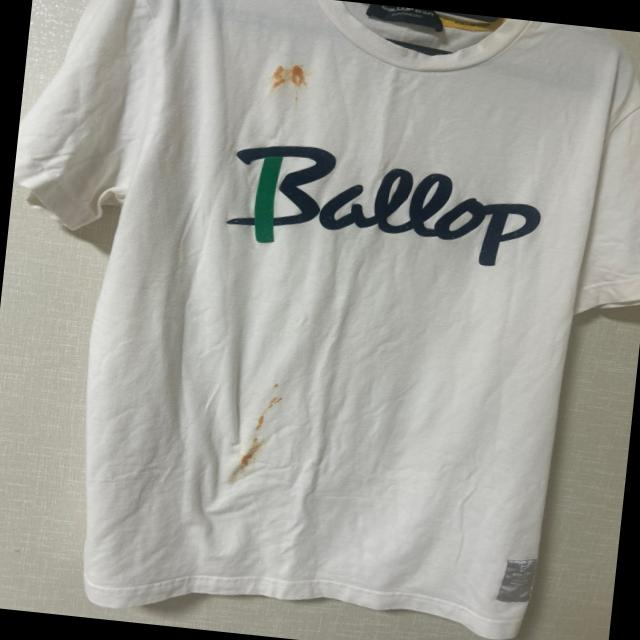stain: (252, 382, 288, 437), (239, 434, 266, 482), (281, 60, 316, 89), (274, 62, 300, 94)
